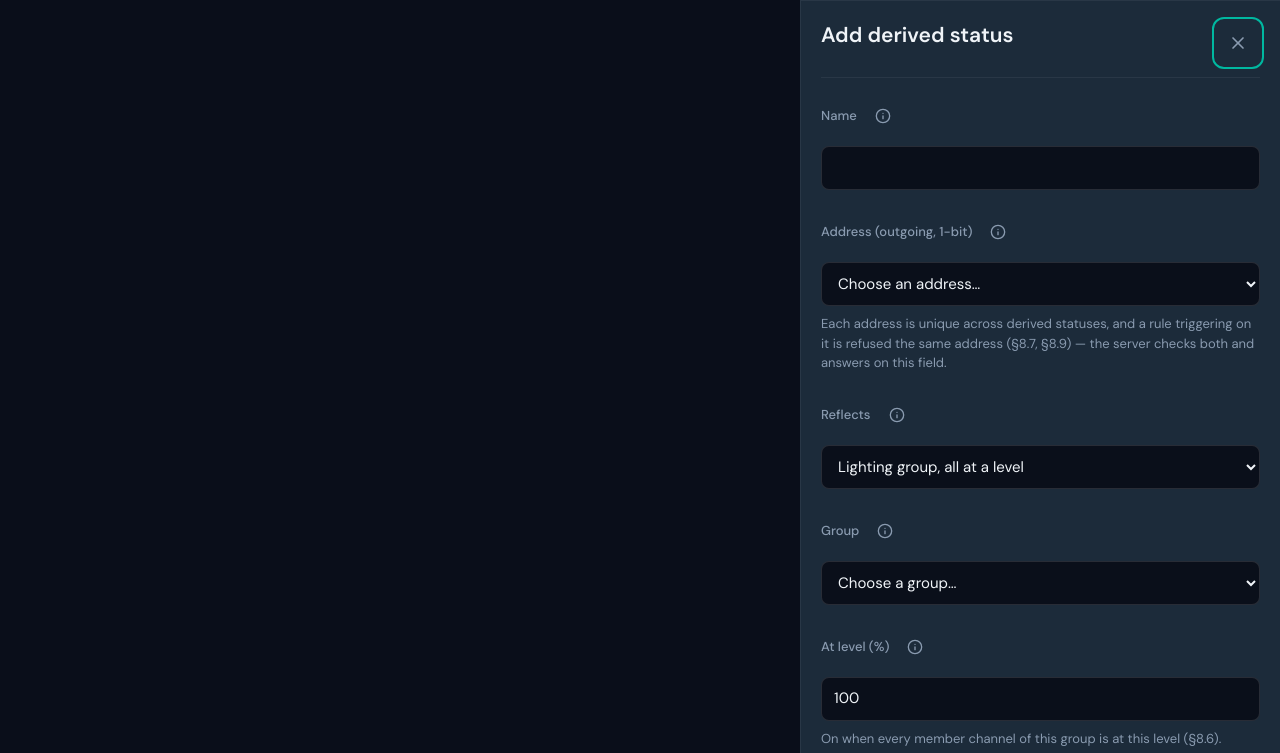
Test: DerivedStatusEditor › changes the fields with the chosen source (§8.6)
Check: the dropdown labelled "Group" is shown, box [821,560,1260,604]
Check: the number field labelled "At level (%)" is shown, box [821,676,1260,720]
Select "Device state" in the dropdown labelled "Reflects" at (1040, 466), box [821,444,1260,488]
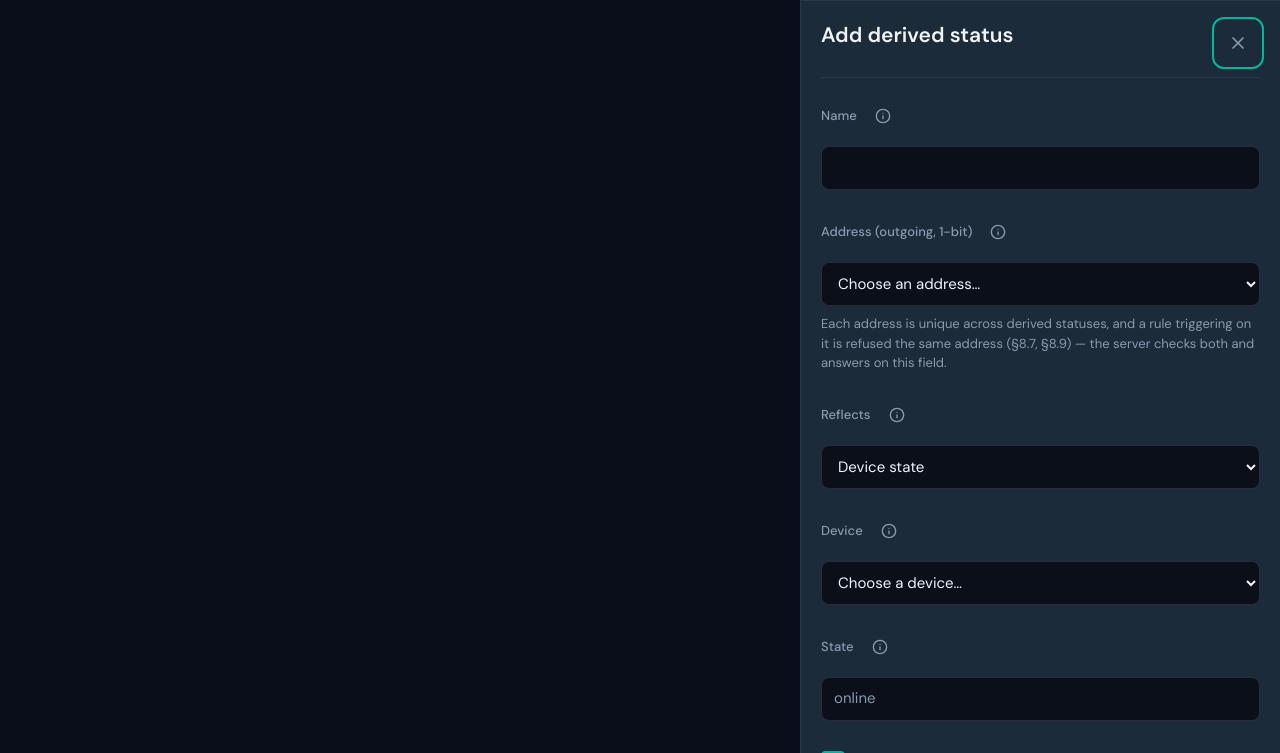
Check: the label labelled "Group" is gone
Check: the dropdown labelled "Device" is shown, box [821,560,1260,604]
Check: the field labelled "State" is shown, box [821,676,1260,720]
Select "External control" in the dropdown labelled "Reflects" at (1040, 466), box [821,444,1260,488]
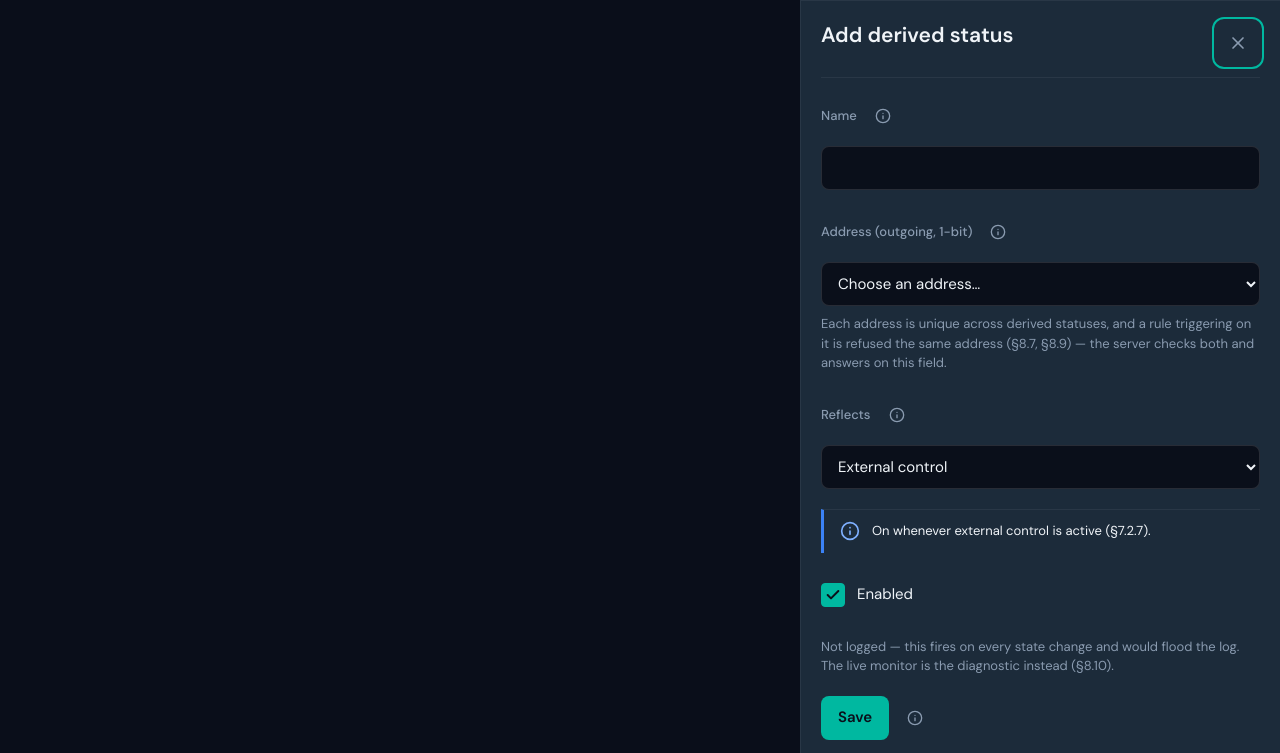
Check: the label labelled "Device" is gone
Check: the text "On whenever external control is active (§7.2.7)." is shown, box [872,522,1151,539]
